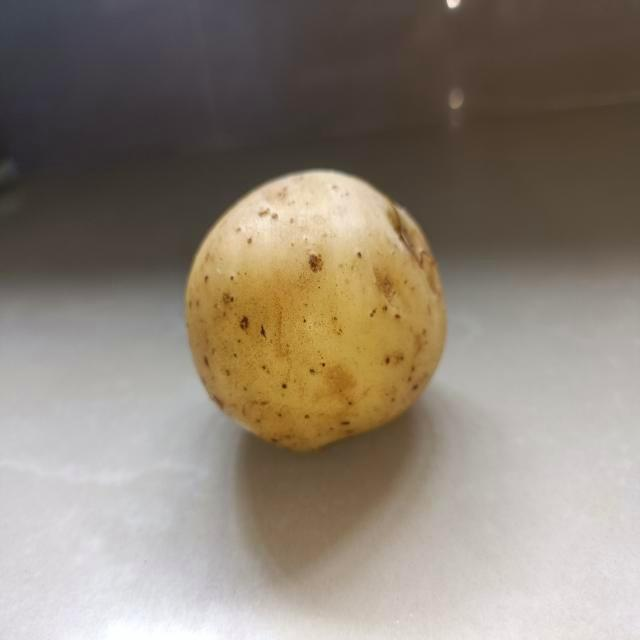potato: (180, 160, 450, 464)
